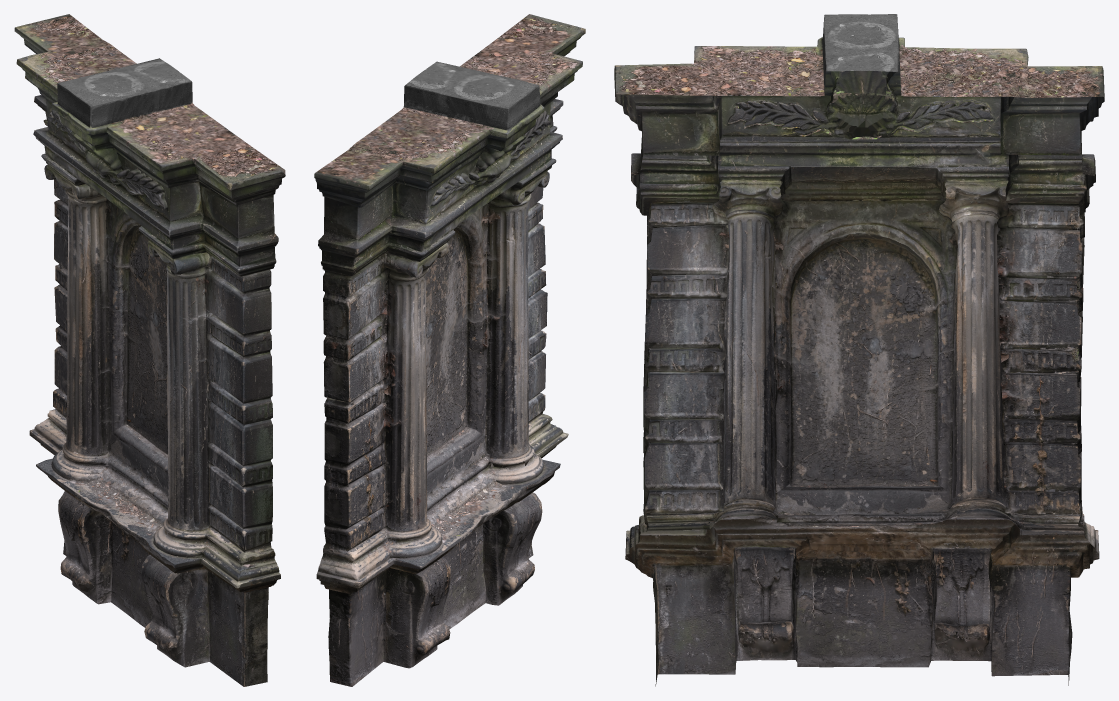
Rendered from sm_Gravestone_02_02.fbx.
3 views of the same model, side by side, from view 1: azimuth 30°, elevation 25°; view 2: azimuth 150°, elevation 25°; view 3: azimuth 270°, elevation 25° (orthographic). The views are drawn at different scales.
Parts seen in each view (by area): view 1: sm_Gravestone_02_02_LOD0; view 2: sm_Gravestone_02_02_LOD0; view 3: sm_Gravestone_02_02_LOD0.
Boxes of the visible parts, x1,y1,x2,y2 form: sm_Gravestone_02_02_LOD0: (14,14,285,686); sm_Gravestone_02_02_LOD0: (314,14,585,686); sm_Gravestone_02_02_LOD0: (614,14,1104,686).
Size of the model in its own units: 68.32 by 241 by 334.
